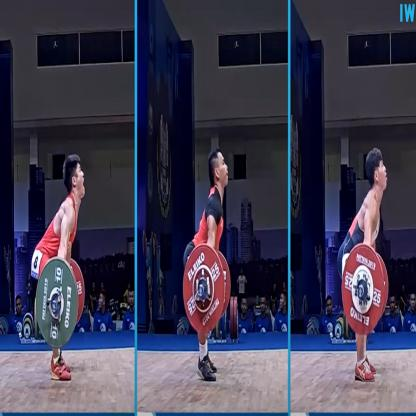Barbell: (338, 236, 388, 343), (180, 231, 228, 337), (32, 254, 81, 355)
